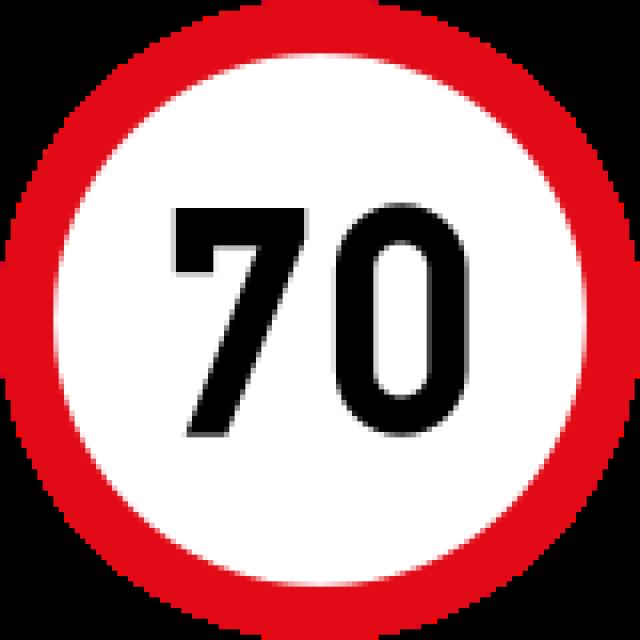Speed Limit -70-: (144, 182, 491, 468)
